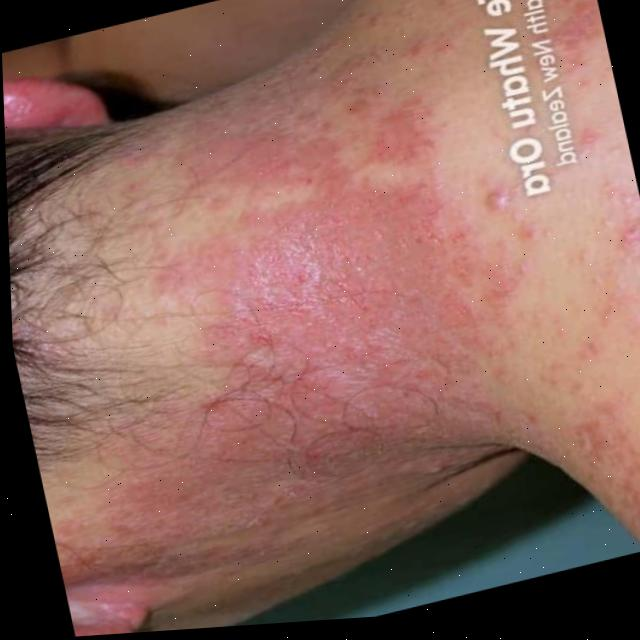Eczema: (37, 64, 561, 586)
